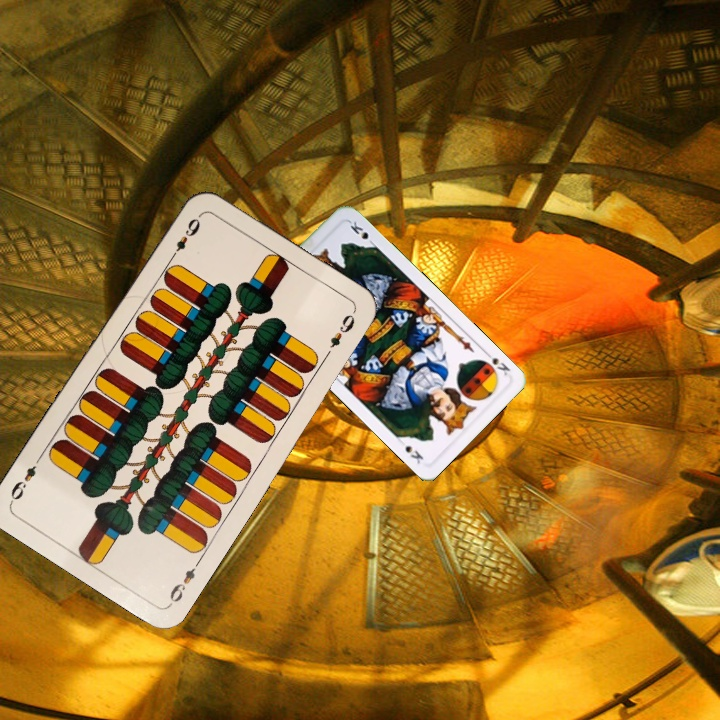E9: (165, 555, 204, 608), (166, 210, 204, 263)
SK: (480, 347, 513, 378)
